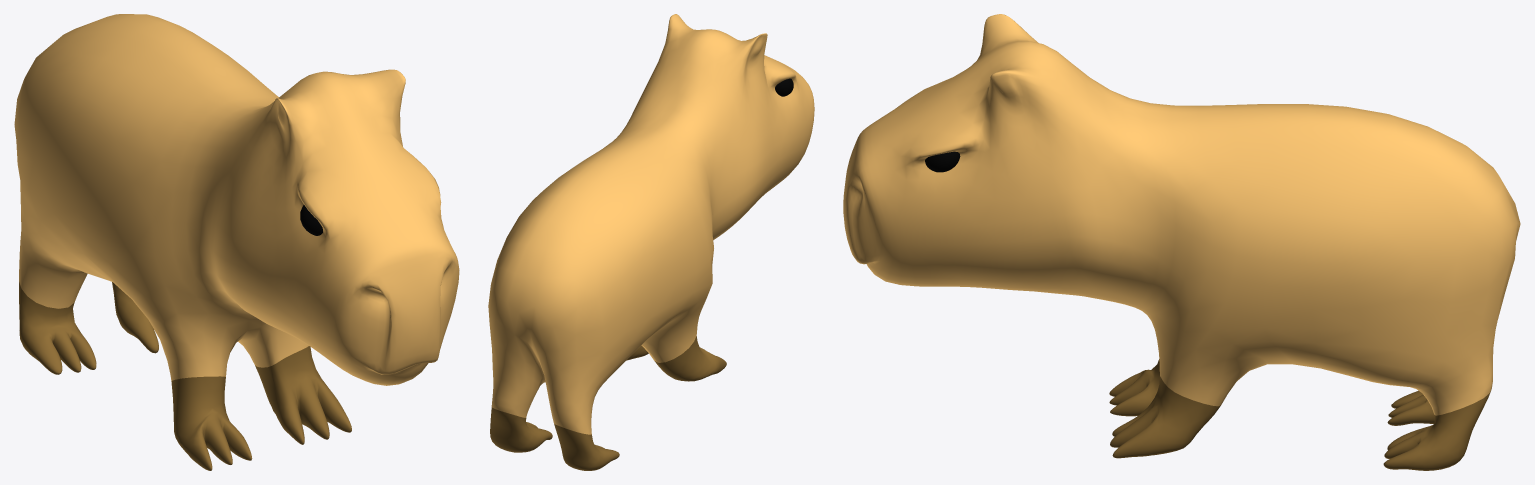
The model's file is wat.fbx.
The picture shows the model from 3 angles, left to right: view 1: azimuth 30°, elevation 25°; view 2: azimuth 150°, elevation 25°; view 3: azimuth 270°, elevation 25°; orthographic projection. The views are drawn at different scales.
Parts seen in each view (by area): view 1: body; view 2: body; view 3: body.
Boxes of the visible parts, left/top/right/bottom form: body: left=14, top=14, right=459, bottom=470; body: left=488, top=14, right=814, bottom=470; body: left=843, top=14, right=1520, bottom=470.
Size of the model in its own units: 2.23 by 4.52 by 6.91.
